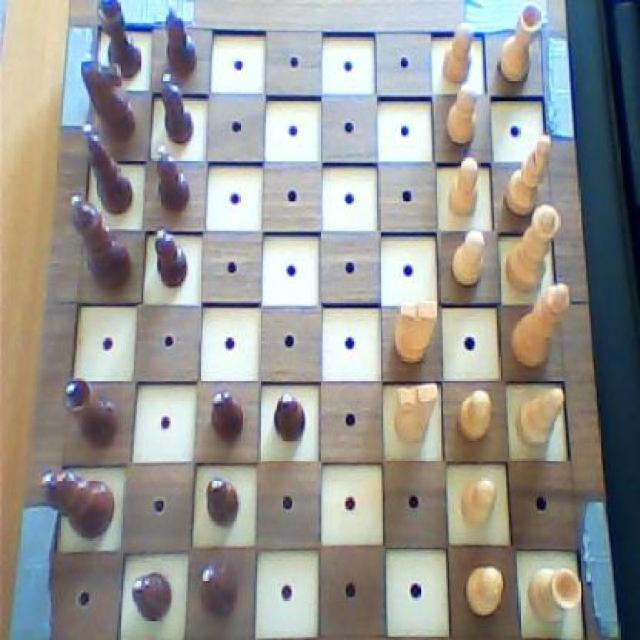bishop: (82, 118, 134, 214), (192, 556, 245, 620)
black-bishop: (35, 466, 118, 547)
black-king: (78, 51, 141, 146)
black-knight: (152, 140, 192, 217), (160, 0, 199, 78), (130, 566, 176, 626), (160, 69, 195, 144), (151, 228, 190, 292), (208, 386, 245, 445), (270, 389, 308, 446), (204, 472, 240, 532)
black-pawn: (66, 191, 132, 294)
black-queen: (60, 374, 121, 451), (94, 0, 143, 83)
black-rook: (498, 129, 554, 220), (517, 386, 568, 452)
white-bishop: (506, 280, 571, 371)
white-king: (386, 295, 439, 367), (394, 378, 438, 450)
white-knight: (438, 18, 478, 87), (448, 225, 488, 290), (444, 154, 484, 219), (454, 388, 495, 448), (443, 75, 478, 144), (463, 562, 505, 618), (458, 476, 499, 528)
white-pawn: (504, 205, 564, 296)
white-queen: (494, 0, 543, 85), (524, 562, 588, 622)
